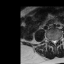CCS_normal: (53, 37, 55, 47)
LFS_normal: (57, 36, 59, 42)
LLS_normal: (55, 37, 57, 43)
RFS_stenosis: (49, 37, 51, 43)
RLS_normal: (51, 37, 53, 44)
